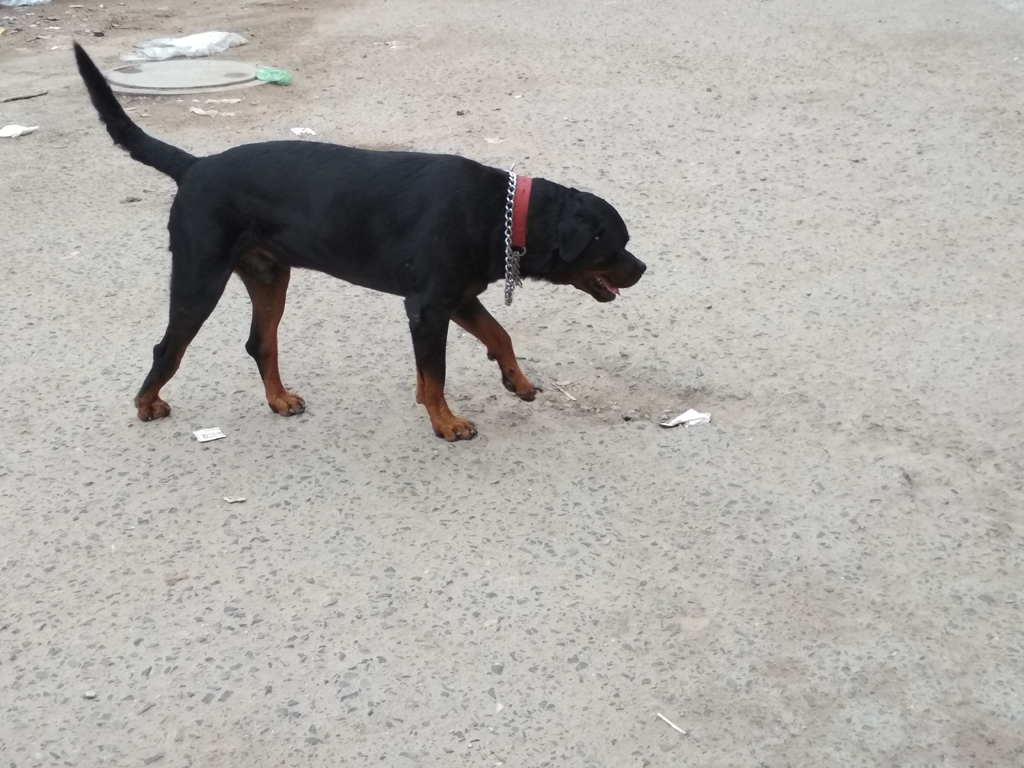dog: (73, 40, 648, 440)
